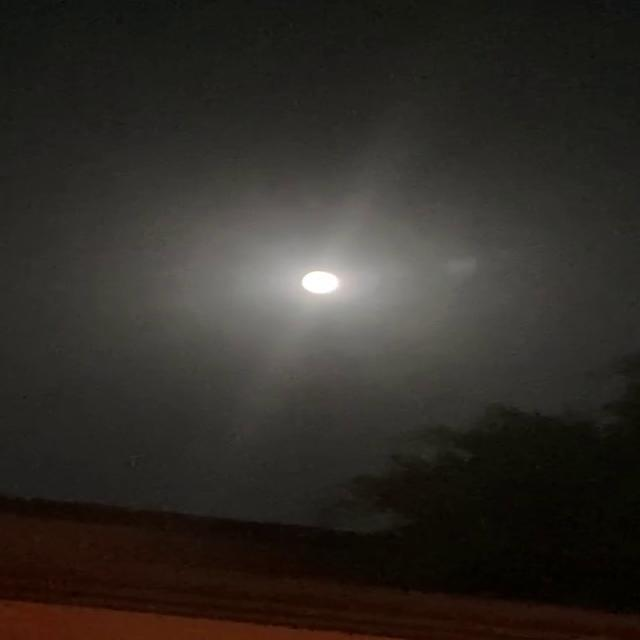moon: (314, 265, 372, 297)
